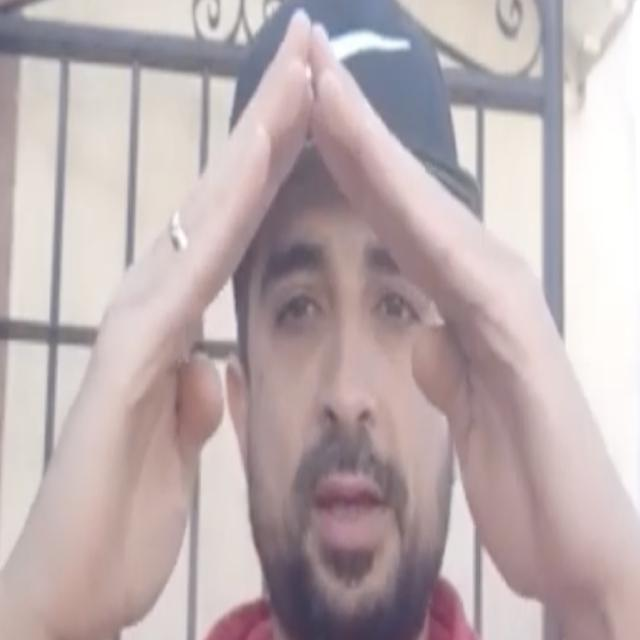casa: (20, 5, 629, 616)
